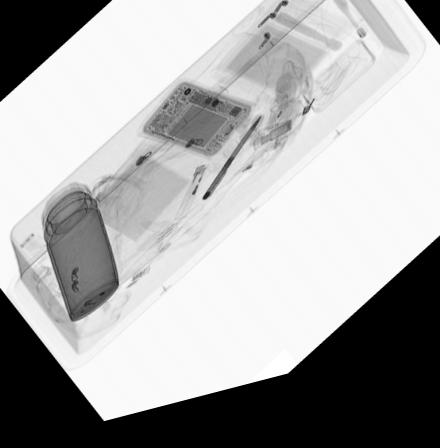Lighter: (170, 172, 211, 230)
